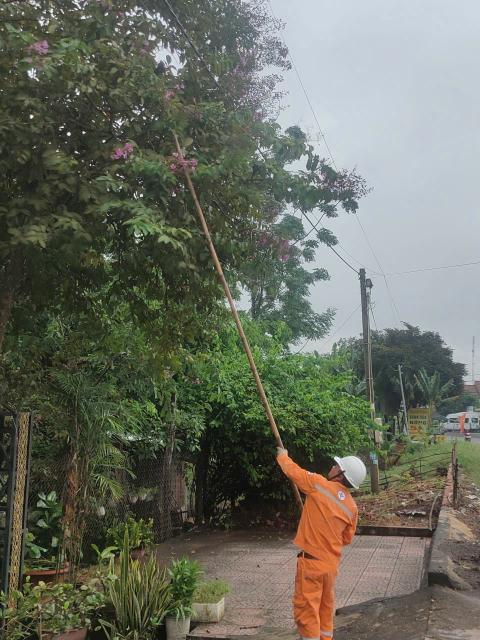gloves: (274, 443, 290, 461)
helmet: (324, 450, 377, 494)
